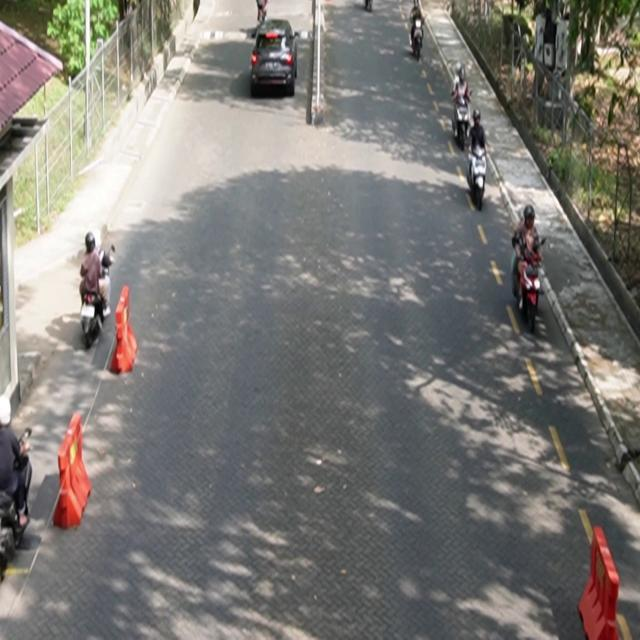car: (251, 19, 301, 98)
